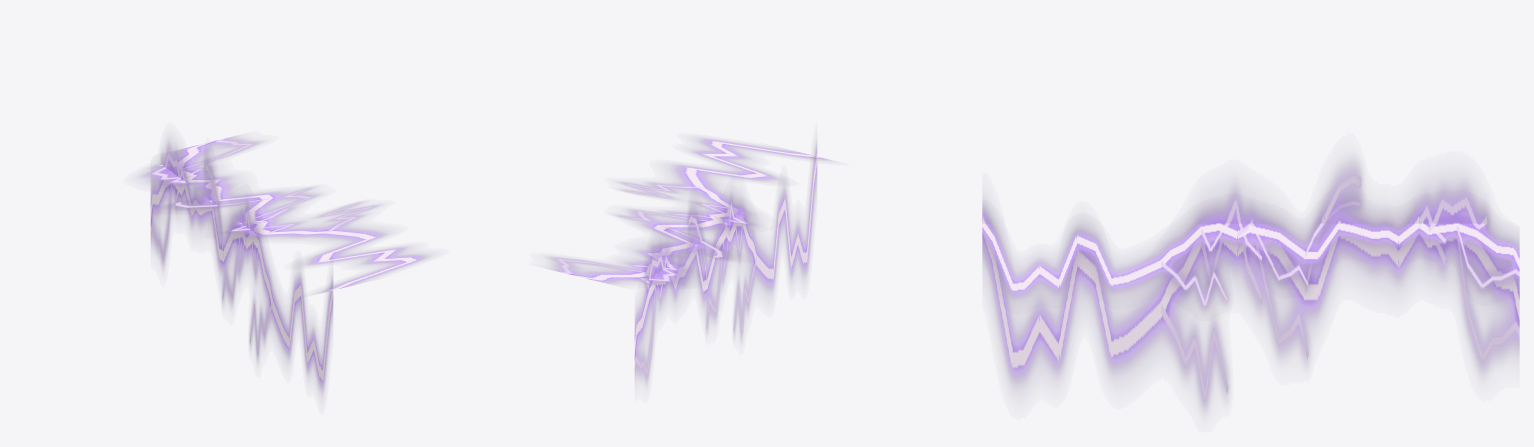
Rendered from fx_arc_asc.glb.
3 views of the same model, side by side, from view 1: azimuth 30°, elevation 25°; view 2: azimuth 150°, elevation 25°; view 3: azimuth 270°, elevation 25° (orthographic). The views are drawn at different scales.
Visible parts, largest first — view 1: fx_arc; view 2: fx_arc; view 3: fx_arc.
Part boxes in pixels (<box>): fx_arc: <box>139,136,430,395</box>; fx_arc: <box>547,138,831,385</box>; fx_arc: <box>982,159,1519,412</box>.
Size of the model in its own units: 0.86 by 0.86 by 1.
Materials: 1 (1 with a texture image).
